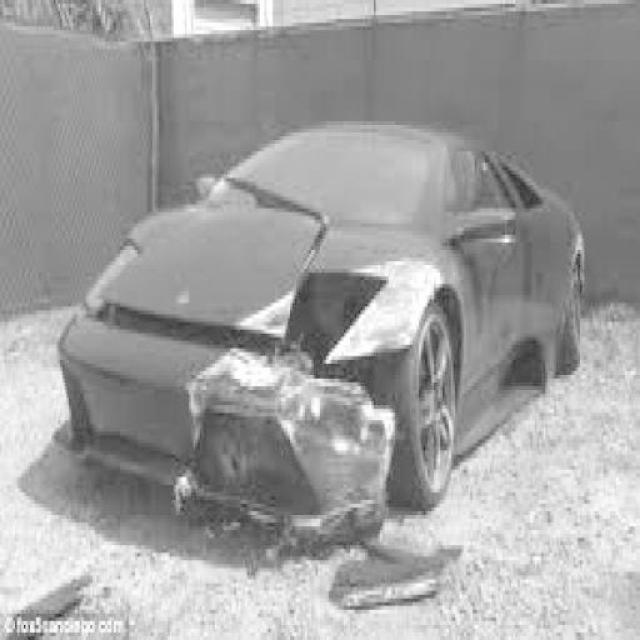car damage: (164, 252, 451, 553)
